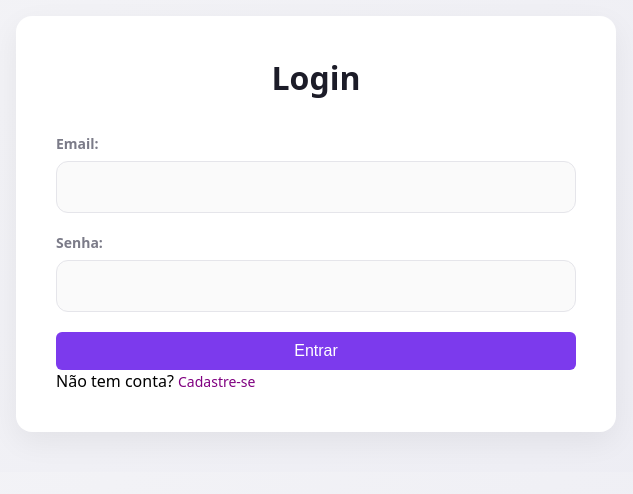
Test: TelaLogin › mostra mensagem quando o formulario esta vazio
The width and height of the screenshot is (633, 494).
Click the button "Entrar" at (316, 351), box [56,332,576,370]
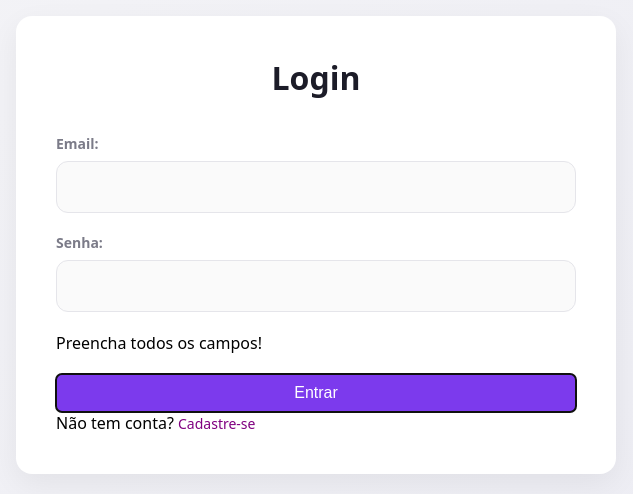
Expected: the text "Preencha todos os campos!" is shown, [56,332,262,354]
